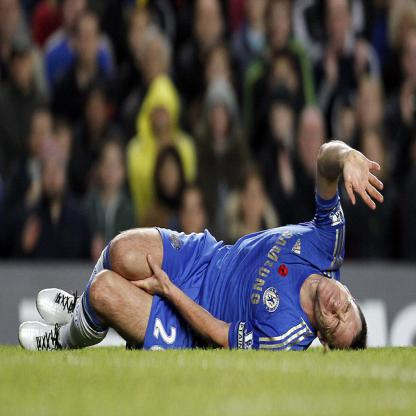football player lies: (18, 131, 391, 361)
